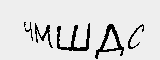Д: (93, 22, 125, 60)
М: (34, 22, 52, 49)
С: (125, 23, 147, 53)
Ч: (22, 19, 34, 43)
Ш: (54, 20, 91, 54)
